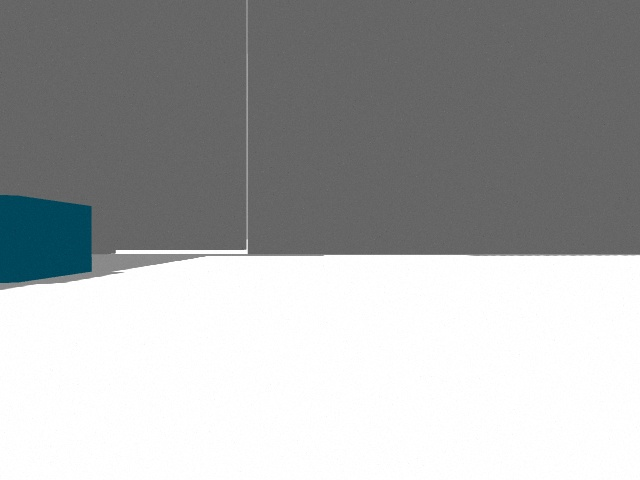blue_drop_zone: (0, 195, 92, 283)
